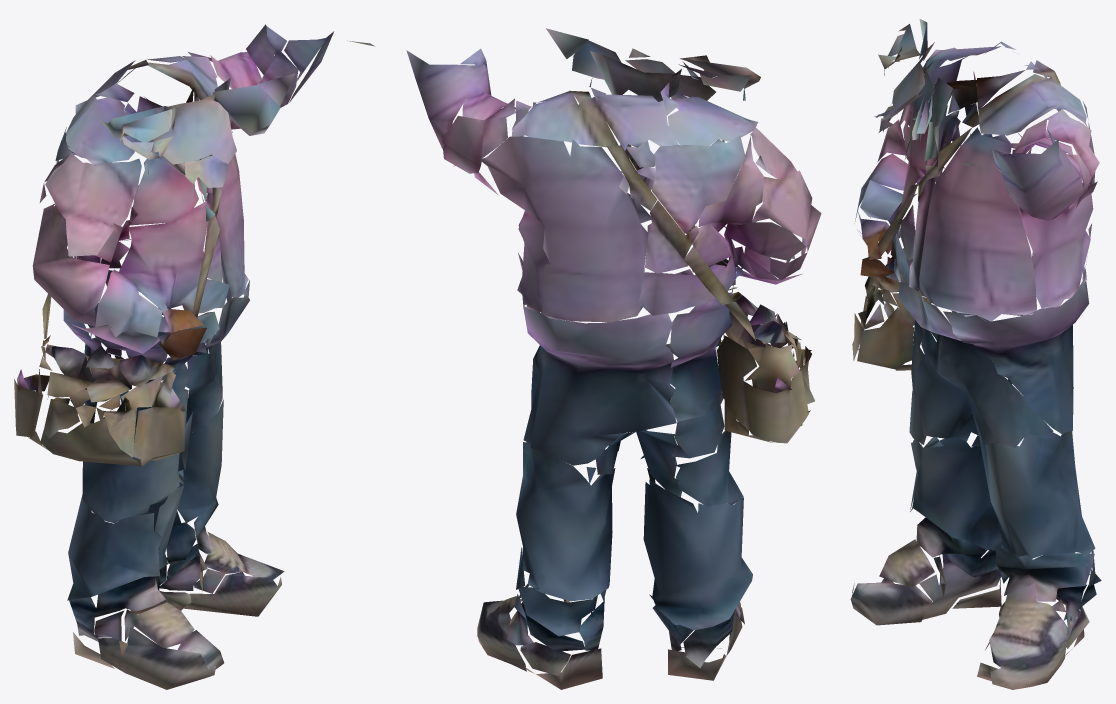
Rendered from crowd_writer_body.glb.
3 views of the same model, side by side, from view 1: azimuth 30°, elevation 25°; view 2: azimuth 150°, elevation 25°; view 3: azimuth 270°, elevation 25° (orthographic). The views are drawn at different scales.
Visible parts, largest first — view 1: tripo_node_a171b73f-355f-4e3c-badd-fdc2f2bb58a7; view 2: tripo_node_a171b73f-355f-4e3c-badd-fdc2f2bb58a7; view 3: tripo_node_a171b73f-355f-4e3c-badd-fdc2f2bb58a7.
Boxes of the visible parts, left/top/right/bottom form: tripo_node_a171b73f-355f-4e3c-badd-fdc2f2bb58a7: left=14, top=24, right=375, bottom=689; tripo_node_a171b73f-355f-4e3c-badd-fdc2f2bb58a7: left=406, top=28, right=821, bottom=689; tripo_node_a171b73f-355f-4e3c-badd-fdc2f2bb58a7: left=850, top=19, right=1101, bottom=689.
Bounding box in the file's own units: 0.5359 × 0.8034 × 0.3203.
1 material, 1 textured.
